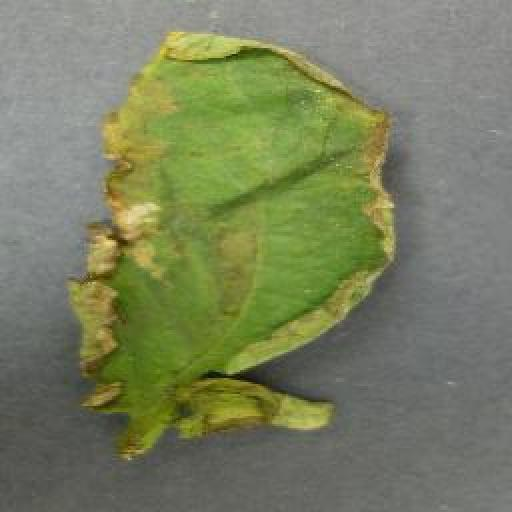Bacterial Spot: (62, 24, 402, 448)
